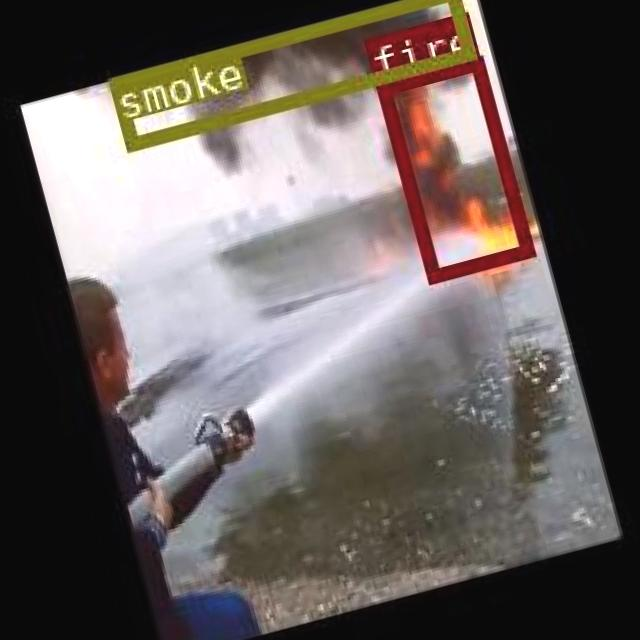fire: (372, 54, 530, 282)
smoke: (107, 0, 472, 150)
